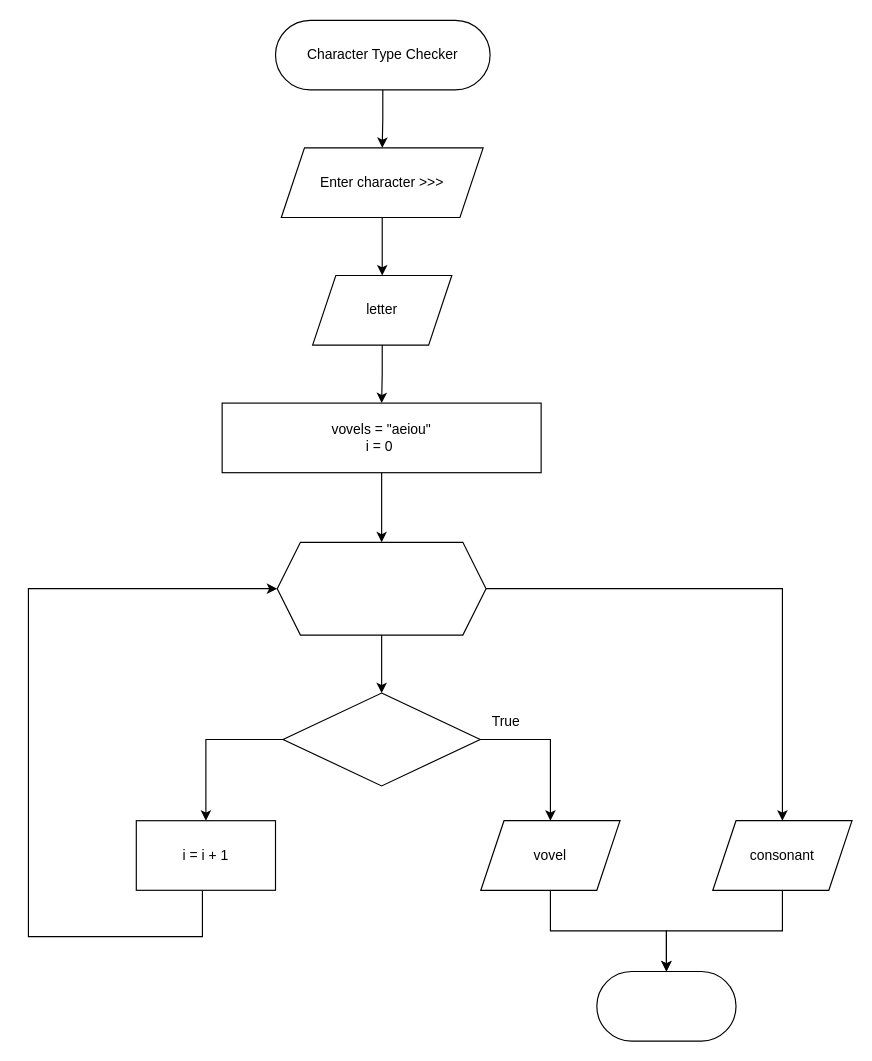
Image size: 872x1061. Some labels were removed from this diagram. The shapes that lost their labels are listed below. From the top down, each one's centre as x and y in pixels, then its label:
point (381, 588): repeat 5 times
point (381, 739): letter == vovels[i]
point (666, 1005): END
